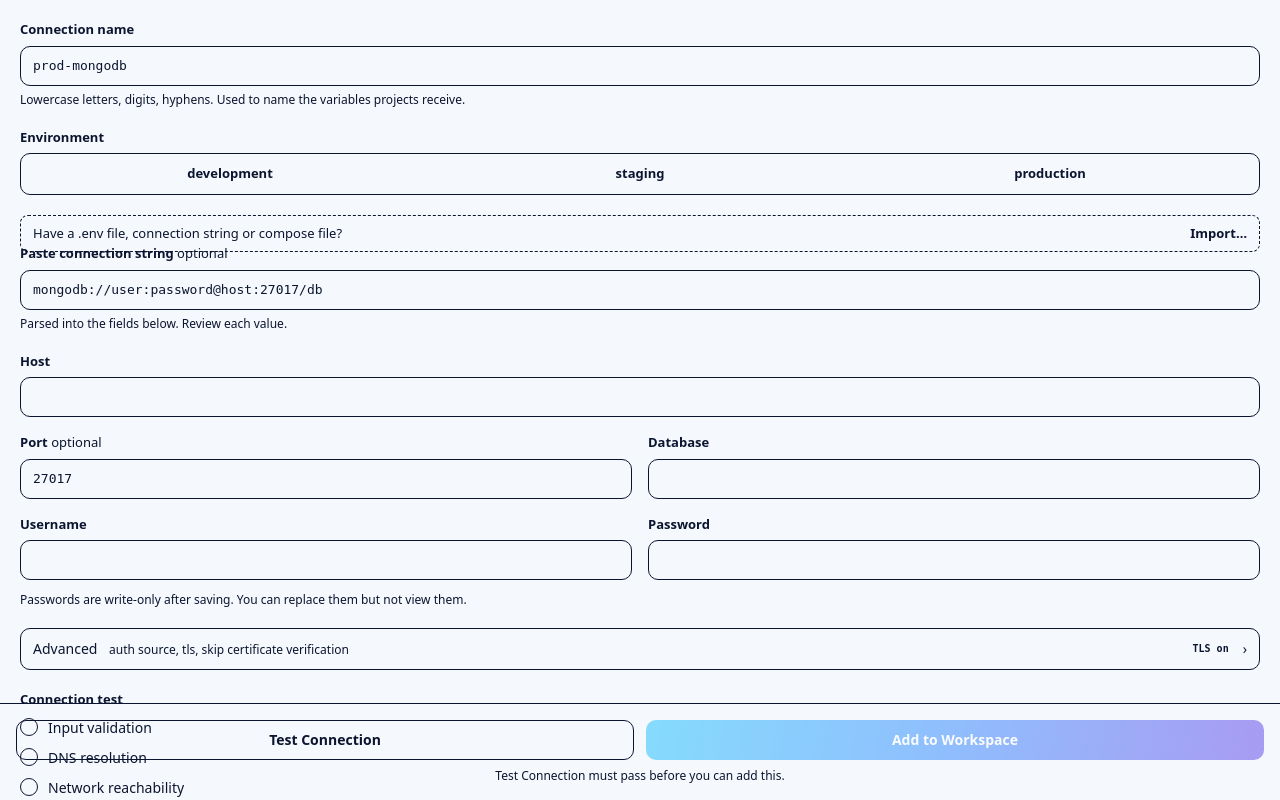
Test: ConnectTab form › shows a production warning banner when the environment is production
The width and height of the screenshot is (1280, 800).
Expected: the text "Production label" is not shown
Click the radio button labelled "production". click: {"x": 1050, "y": 174}
box: [845,158,1255,190]
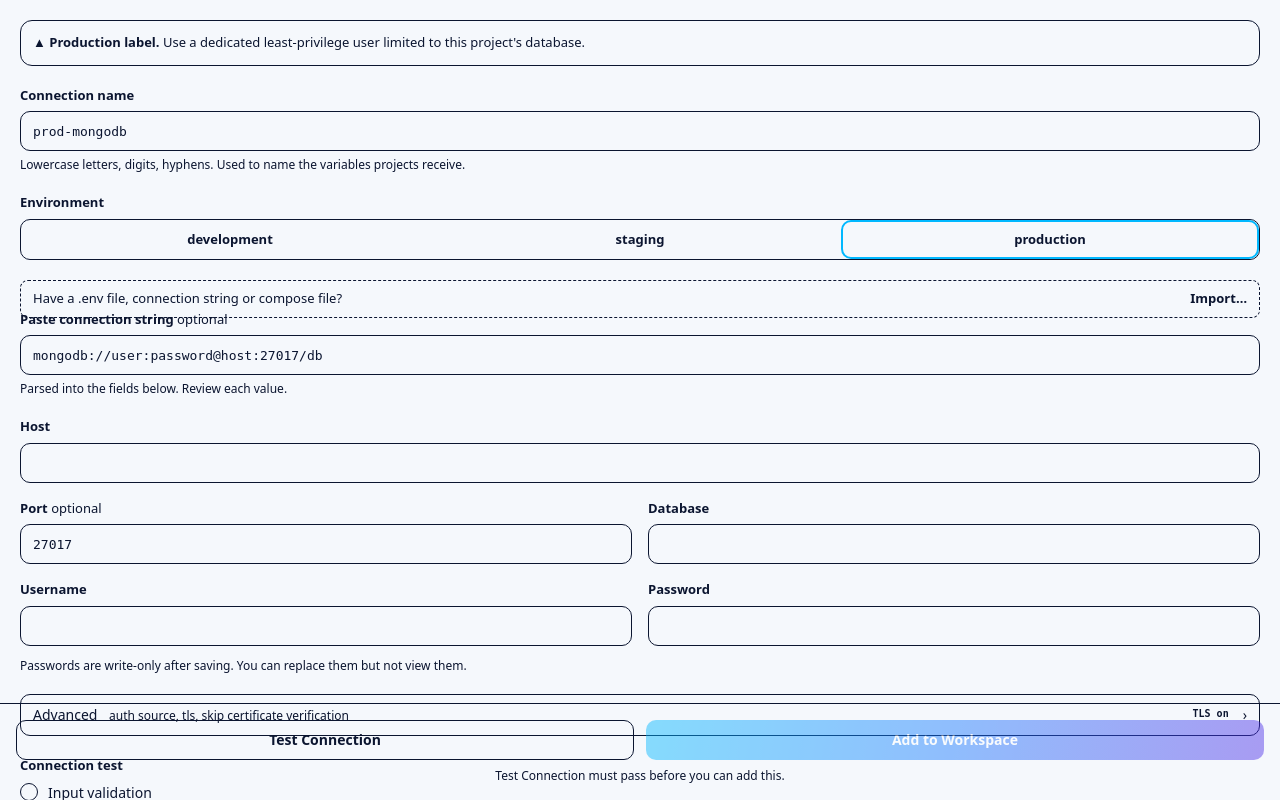
Now the text "▲ Production label." is shown, box [33,33,160,51]
